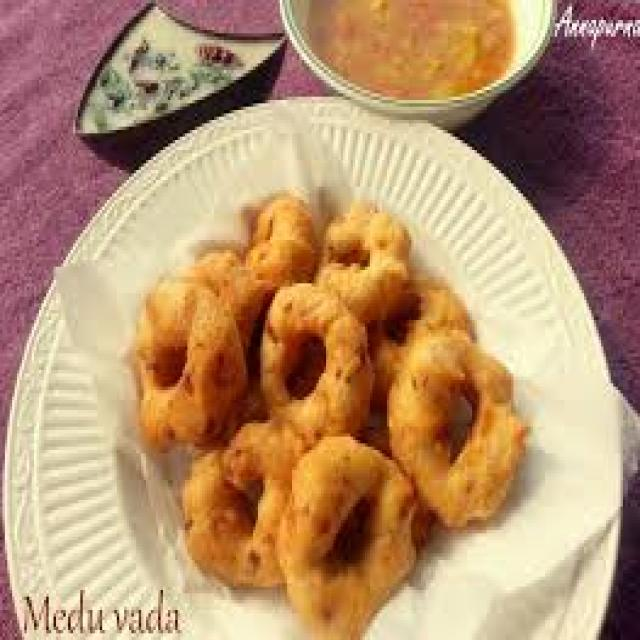MEDU VADA: (281, 438, 417, 637), (389, 339, 526, 529), (181, 423, 308, 594), (126, 285, 249, 446), (259, 288, 371, 457)
